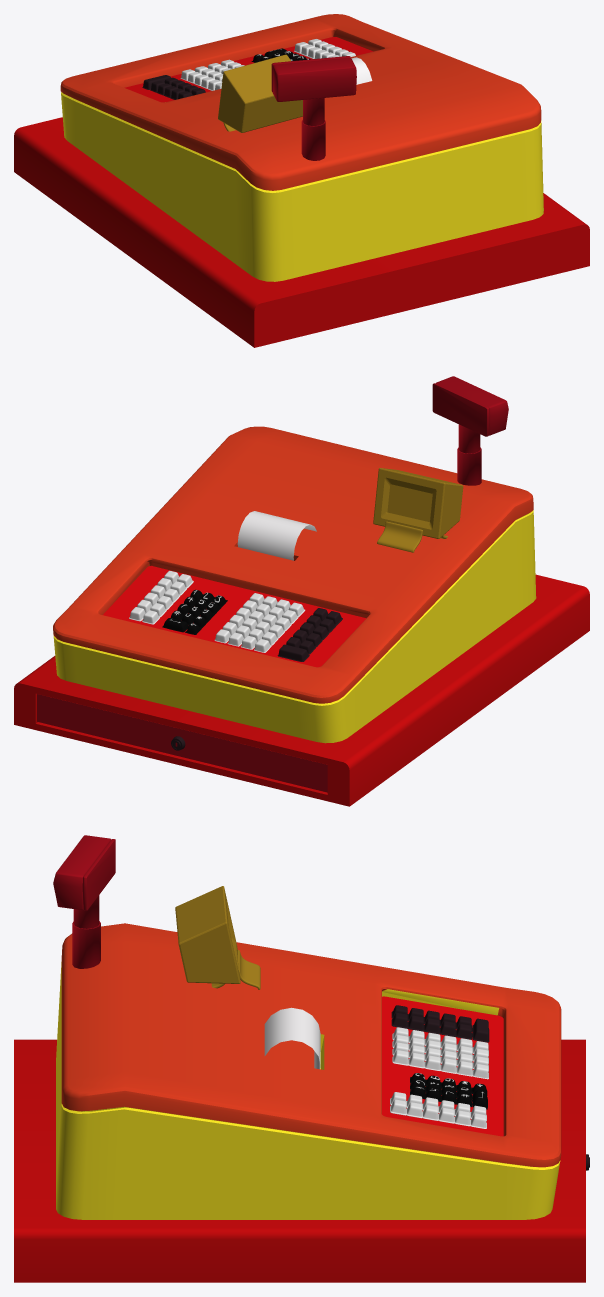
The model's file is casa-de-marcat.fbx.
3 renders of one model, top to bottom at view 1: azimuth 30°, elevation 25°; view 2: azimuth 150°, elevation 25°; view 3: azimuth 270°, elevation 25°, orthographic. The views are drawn at different scales.
Parts seen in each view (by area): view 1: Cube.001, Cube, Screen, Cube.002, Cube.003, Square button.001, Cylinder, Square button.002, Square button.003, Cylinder.001; view 2: Cube.001, Cube, Cube.003, Screen, Square button.001, Cube.002, Cylinder.004, Square button.002, Square button.003, Plane, Cylinder; view 3: Cube.001, Cube, Cube.003, Screen, Square button.001, Cube.002, Square button.002, Cylinder.004, Square button.003, Cylinder, Cylinder.001.
Boxes of the visible parts, x1,y1,x2,y2 form: Cube.001: [60, 14, 543, 281]; Cube: [14, 117, 589, 347]; Screen: [218, 54, 302, 132]; Cube.002: [271, 56, 356, 101]; Cube.003: [124, 37, 373, 102]; Square button.001: [180, 59, 244, 90]; Cylinder: [301, 120, 325, 160]; Square button.002: [294, 39, 355, 58]; Square button.003: [150, 77, 205, 99]; Cylinder.001: [303, 98, 324, 125]; Cube.001: [53, 426, 536, 743]; Cube: [14, 574, 589, 806]; Cube.003: [103, 565, 365, 667]; Screen: [373, 468, 463, 538]; Square button.001: [214, 593, 305, 652]; Cube.002: [432, 376, 508, 436]; Cylinder.004: [237, 511, 316, 560]; Square button.002: [129, 570, 193, 624]; Square button.003: [286, 608, 342, 654]; Plane: [377, 521, 422, 552]; Cylinder: [457, 447, 481, 485]; Cube.001: [56, 923, 561, 1219]; Cube: [14, 1039, 585, 1282]; Cube.003: [382, 996, 503, 1136]; Screen: [175, 886, 240, 983]; Square button.001: [392, 1027, 488, 1079]; Cube.002: [53, 835, 115, 910]; Square button.002: [390, 1092, 486, 1128]; Cylinder.004: [264, 1007, 320, 1069]; Square button.003: [391, 1005, 472, 1039]; Cylinder: [72, 921, 100, 968]; Cylinder.001: [73, 895, 99, 928].
Size of the model in its own units: 233 by 168 by 291.
Materials: 26 (14 with a texture image).
